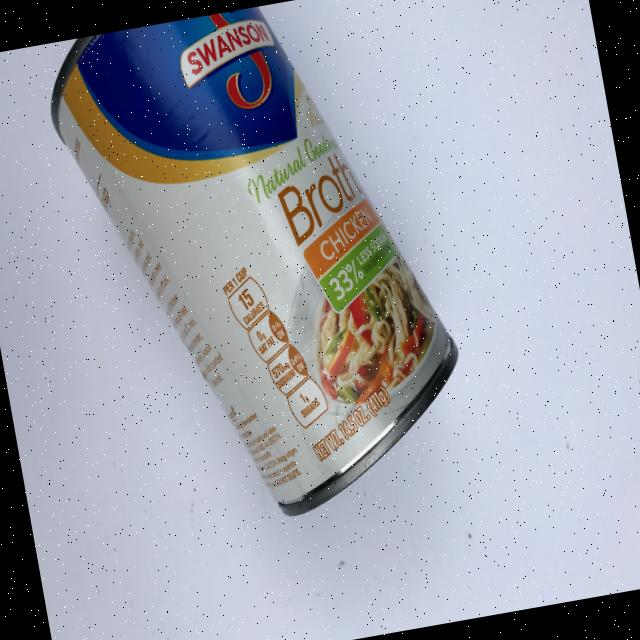metal: (37, 0, 482, 546)
